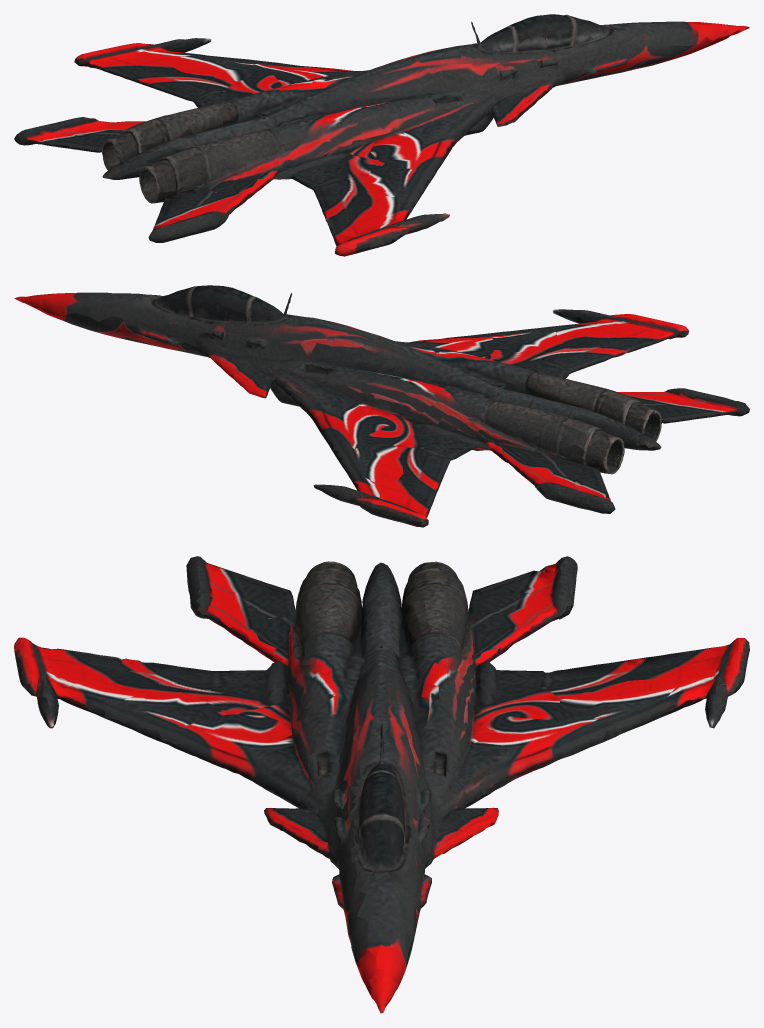
File: fh_enemy_draft_meshy.glb
3 views of the same model, one above another, from view 1: azimuth 30°, elevation 25°; view 2: azimuth 150°, elevation 25°; view 3: azimuth 270°, elevation 25° (orthographic). The views are drawn at different scales.
Visible parts, largest first — view 1: GLTF; view 2: GLTF; view 3: GLTF.
Part boxes in pixels (left/top/right/bottom): GLTF: left=14, top=14, right=749, bottom=256; GLTF: left=14, top=285, right=749, bottom=527; GLTF: left=14, top=556, right=749, bottom=1013.
Bounding box in the file's own units: 1 × 0.1304 × 0.6896.
1 material, 1 textured.
